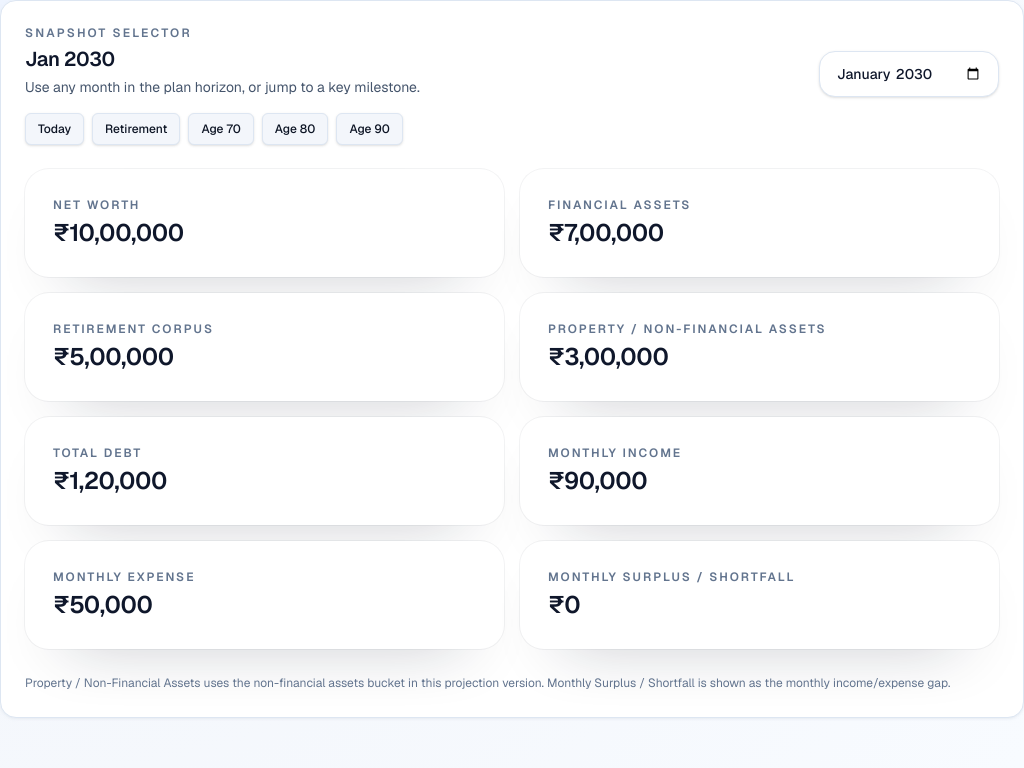
it: ProjectionSnapshotSelector › supports preview snapshot payloads with retirement jump
What coordinates should you click on to do the following:
click the button "Retirement"
I would click on:
 (136, 129)
Its box is [92, 113, 180, 145].
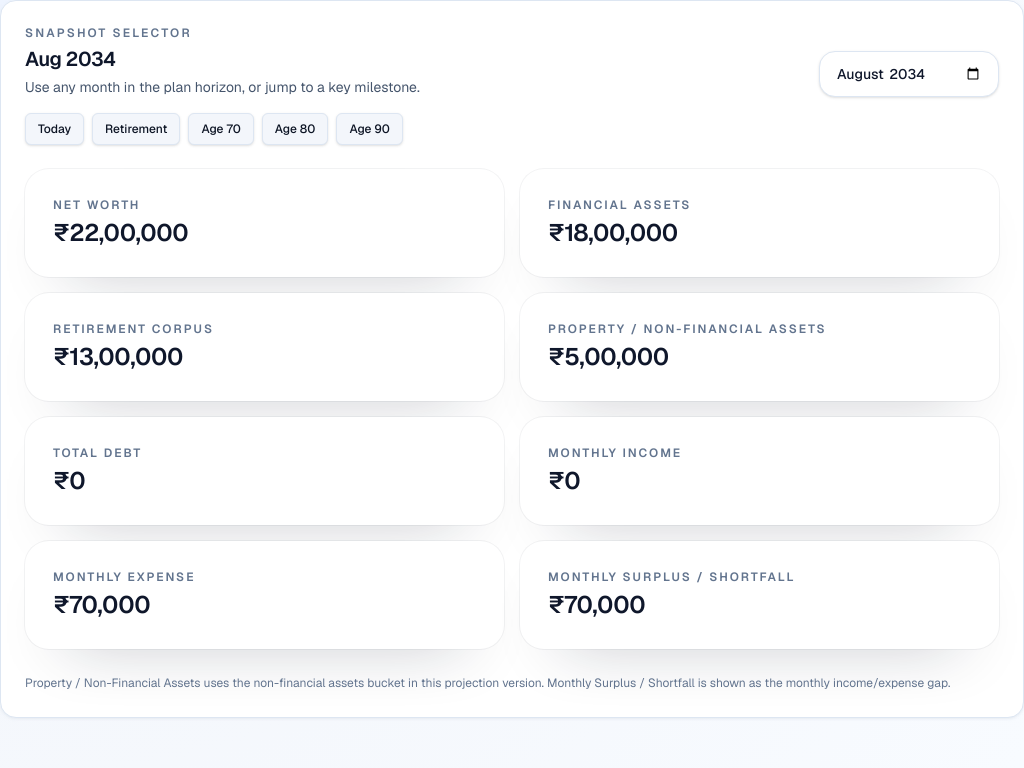
expect the heading "Aug 2034" is shown: met, box [25, 46, 116, 72]
expect the text "₹22,00,000" is shown: met, box [53, 217, 188, 248]
